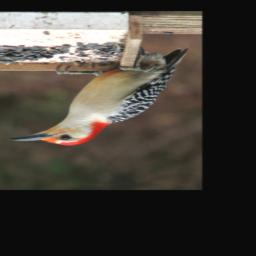Woodpecker: (9, 46, 191, 146)
